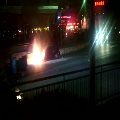fire: (27, 41, 44, 66)
